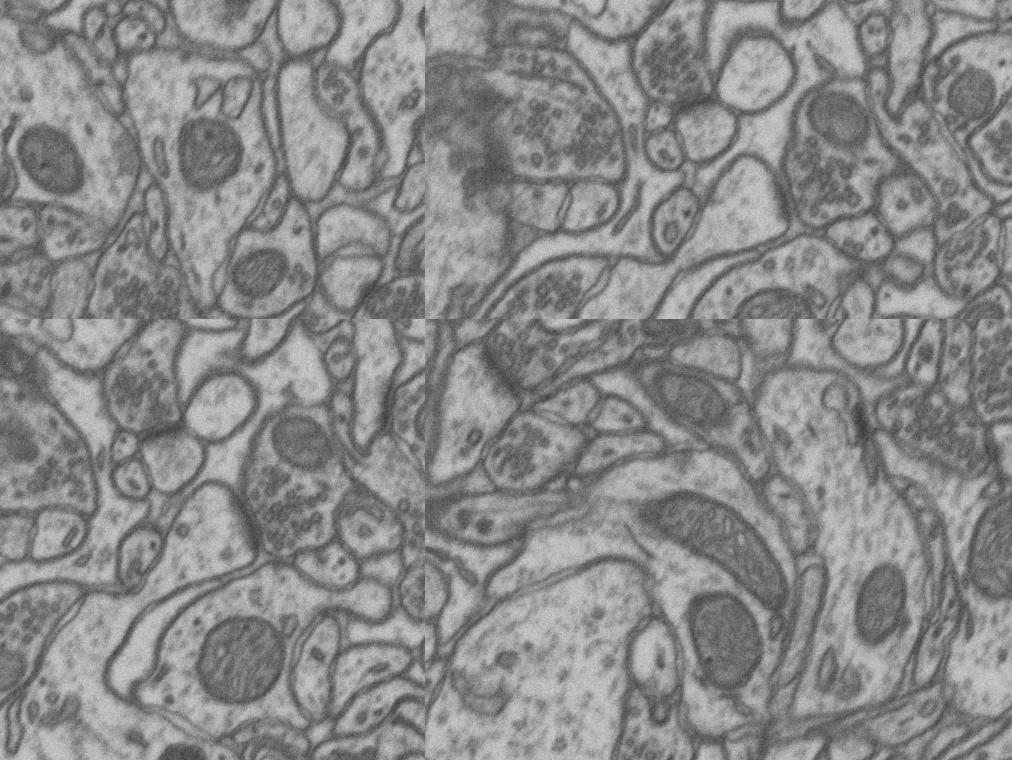mitochondria: (610, 475, 818, 621), (180, 594, 308, 723), (660, 575, 782, 704), (158, 101, 263, 214), (0, 110, 110, 214), (801, 93, 905, 186), (633, 354, 742, 439), (839, 553, 922, 661), (951, 475, 1012, 617), (258, 398, 352, 486), (218, 226, 306, 319), (935, 62, 1011, 140), (706, 274, 833, 319), (0, 624, 39, 716), (394, 378, 425, 462), (311, 736, 391, 760), (404, 0, 425, 55)
